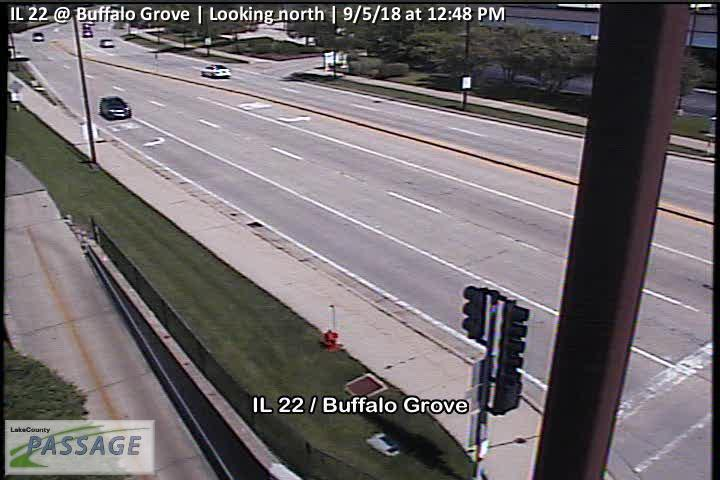SUV: (99, 95, 133, 120)
Sedan: (201, 64, 231, 78)
